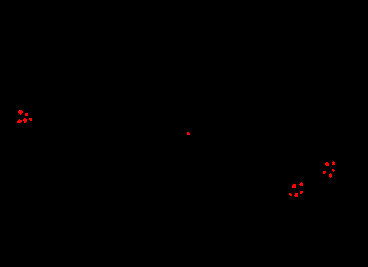Target: (18, 110, 23, 115), (23, 118, 27, 123), (17, 119, 22, 123), (325, 162, 329, 166), (299, 182, 303, 186), (292, 184, 296, 188), (294, 193, 298, 197), (329, 173, 332, 178), (332, 161, 335, 165), (25, 113, 28, 116), (29, 118, 32, 121), (187, 132, 190, 135), (332, 169, 335, 172), (323, 171, 326, 174), (300, 191, 303, 194), (289, 193, 292, 196)
